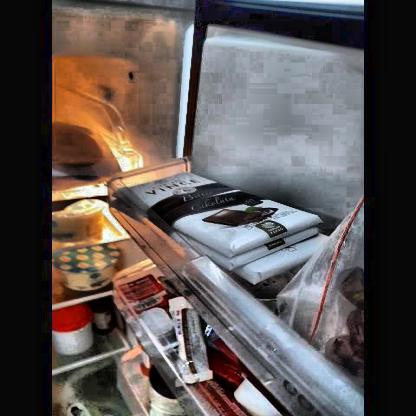chocolate: (123, 172, 315, 249)
salami: (52, 122, 101, 176)
yoghurt: (55, 249, 117, 285), (53, 208, 102, 242)
